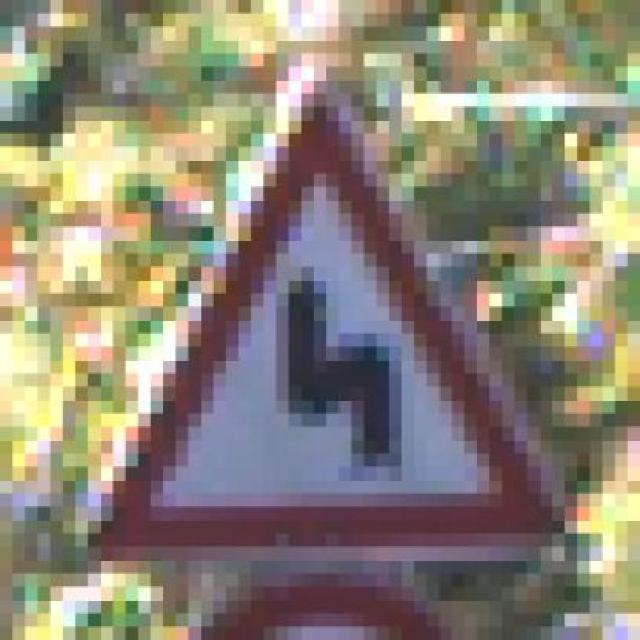Left Zig Zag Traffic: (88, 67, 577, 587)
